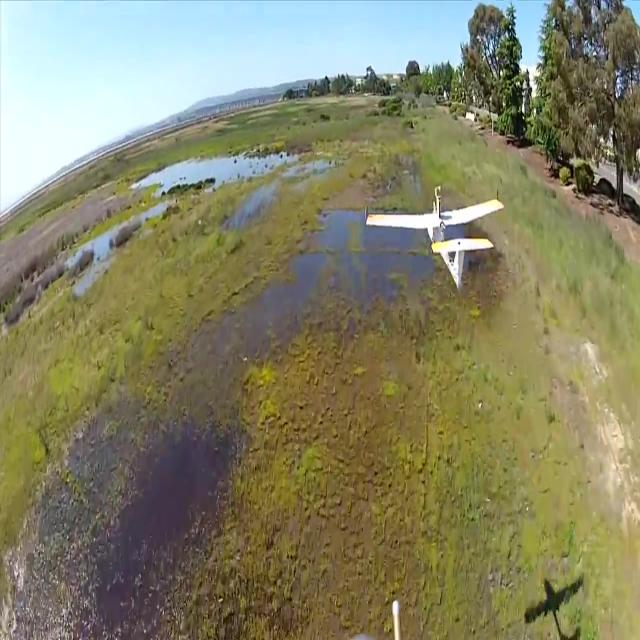iha: (364, 212, 506, 263)
